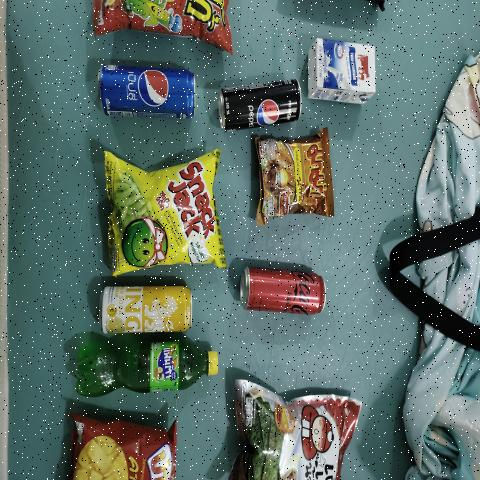coke_red: (234, 260, 328, 317)
fanta_green: (65, 343, 221, 393)
mama: (254, 142, 336, 217)
pepsi_black: (219, 89, 300, 130)
pepsi_blue: (95, 60, 195, 116)
singha_yellow: (100, 283, 194, 335)
snack_jack: (108, 168, 216, 260)
taokaenoi: (233, 378, 369, 480)
thai_denmark: (307, 36, 373, 109)
